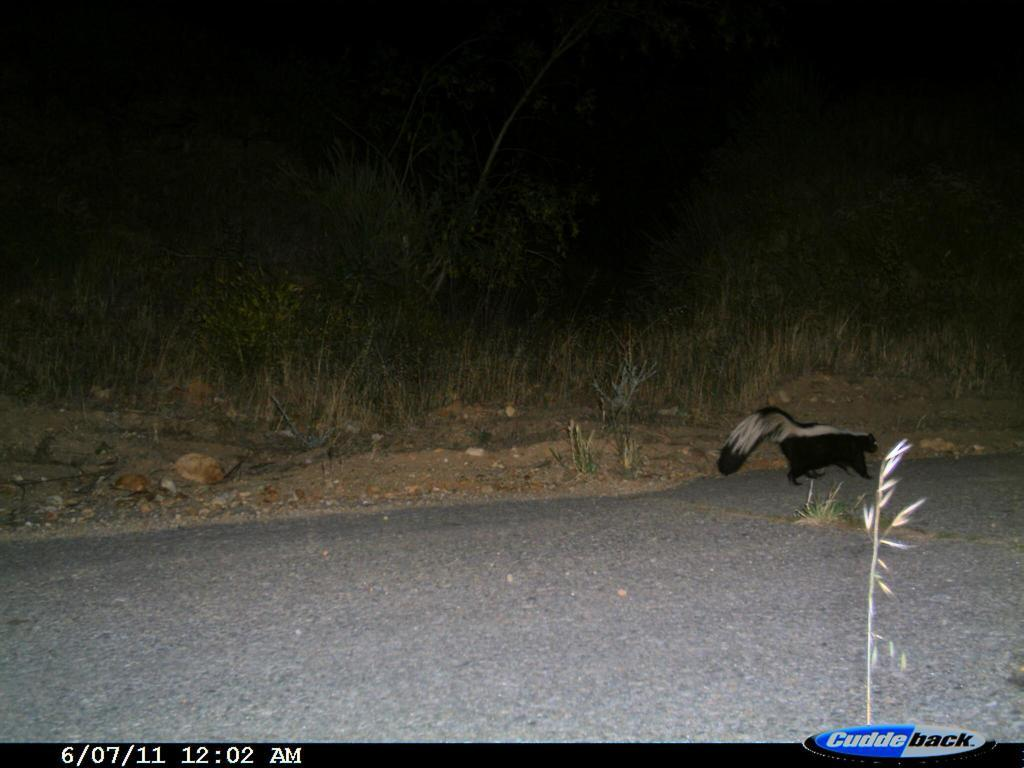skunk: (706, 400, 889, 495)
